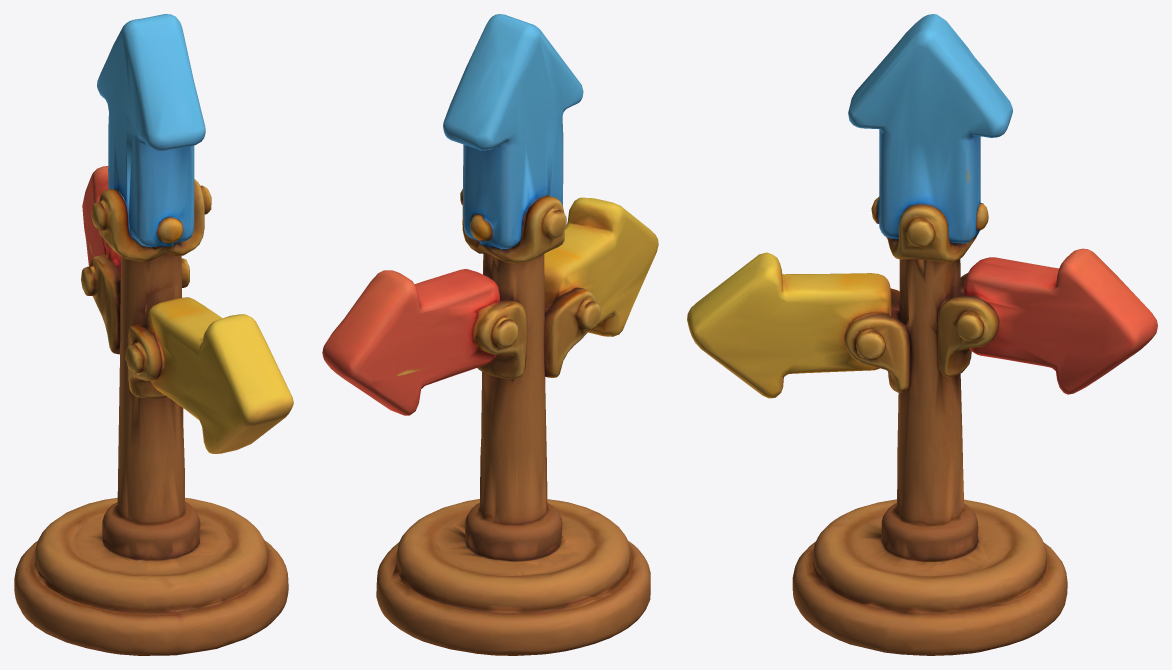
Rendered from signpost.glb.
3 renders of one model, left to right at view 1: azimuth 30°, elevation 25°; view 2: azimuth 150°, elevation 25°; view 3: azimuth 270°, elevation 25°, orthographic.
Visible parts, largest first — view 1: tripo_node_e45206f4-0749-4915-9c93-fa9d3136be2f; view 2: tripo_node_e45206f4-0749-4915-9c93-fa9d3136be2f; view 3: tripo_node_e45206f4-0749-4915-9c93-fa9d3136be2f.
Boxes of the visible parts, x1,y1,x2,y2 form: tripo_node_e45206f4-0749-4915-9c93-fa9d3136be2f: (14,14,293,655); tripo_node_e45206f4-0749-4915-9c93-fa9d3136be2f: (322,14,658,655); tripo_node_e45206f4-0749-4915-9c93-fa9d3136be2f: (687,14,1157,655).
Size of the model in its own units: 0.1066 by 0.25 by 0.1838.
1 material, 1 textured.
